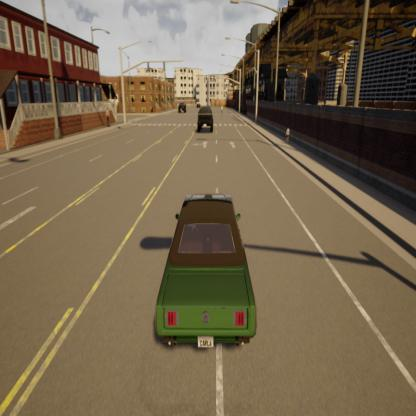Cars: (154, 149, 274, 416), (195, 86, 223, 137), (170, 87, 192, 128)
